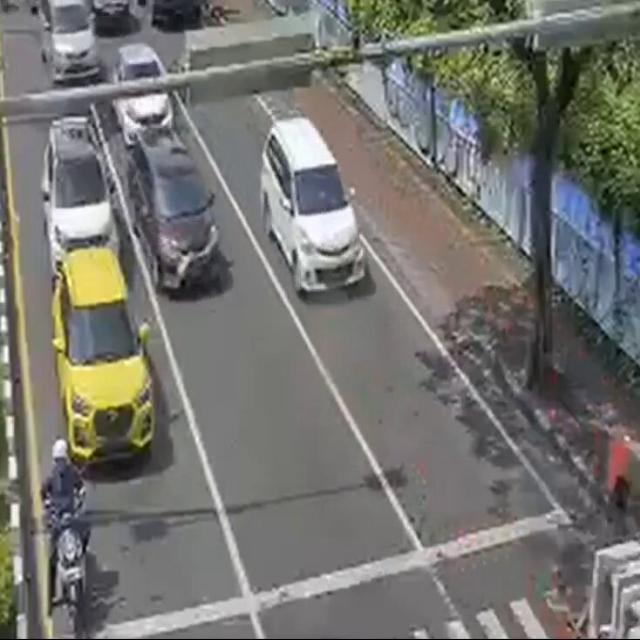car: (48, 244, 158, 455), (263, 116, 368, 304), (132, 148, 249, 295), (41, 119, 122, 254), (24, 0, 103, 85), (112, 46, 182, 137)
motorbike: (36, 439, 92, 638)
